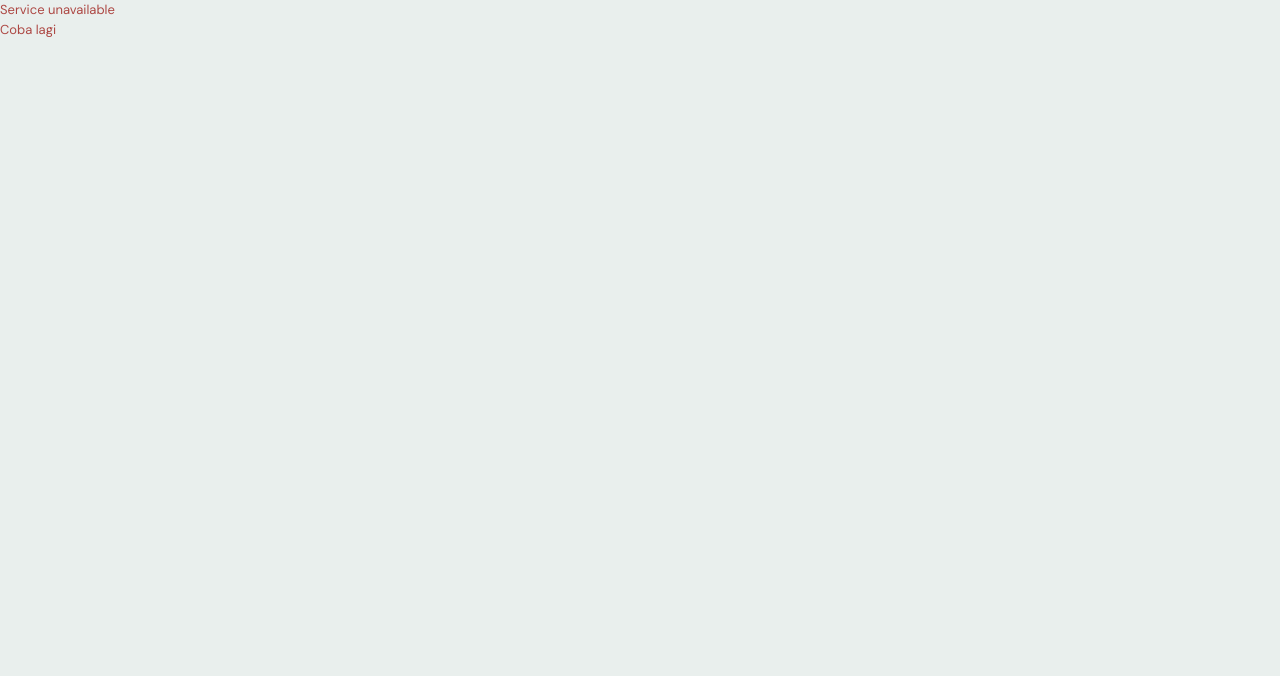
Scenario: hides figures on service failure and allows retry
Step 1. Click the button "Coba lagi" → click(28, 29), box x1=0 y1=20 x2=56 y2=39
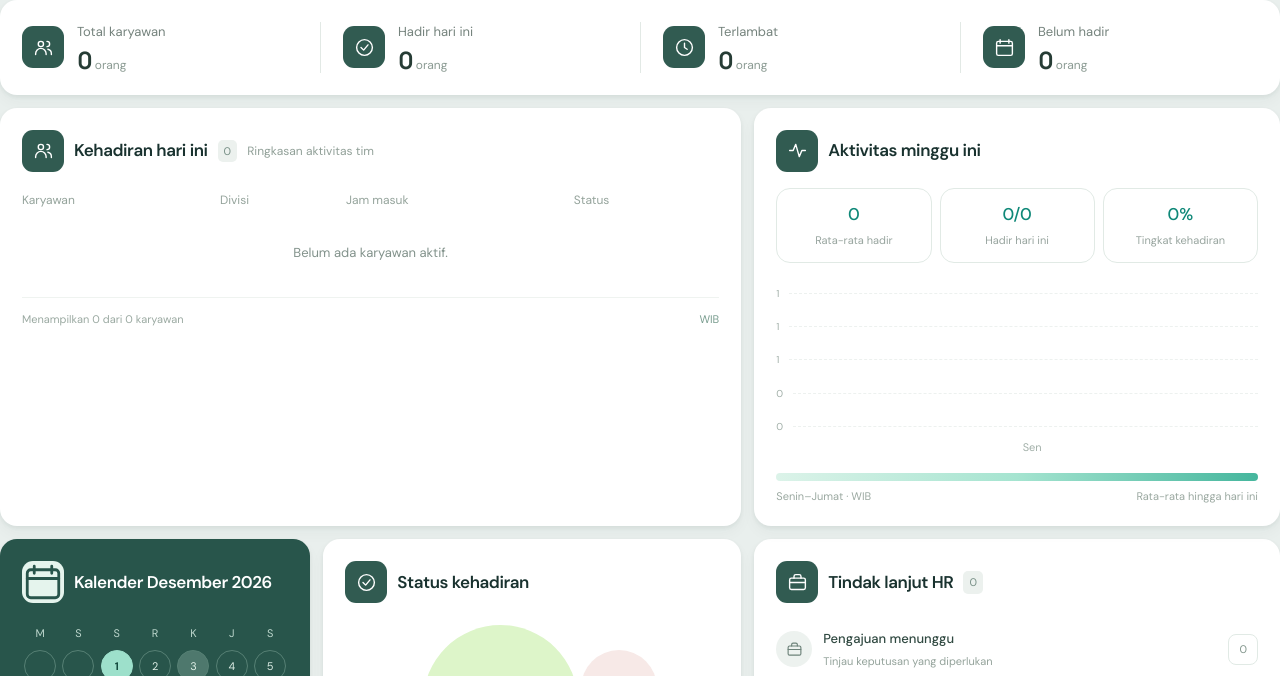
Check: the element named "Ringkasan kehadiran" is shown, box x1=0 y1=0 x2=1279 y2=95
